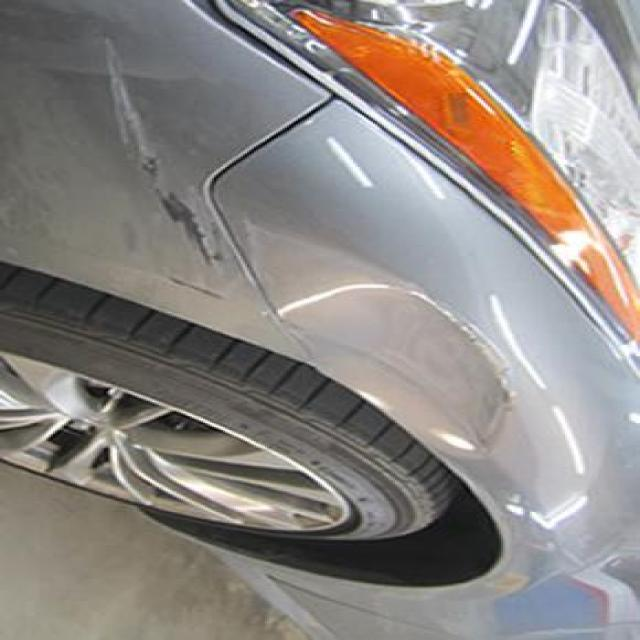scratch: (79, 34, 256, 308)
